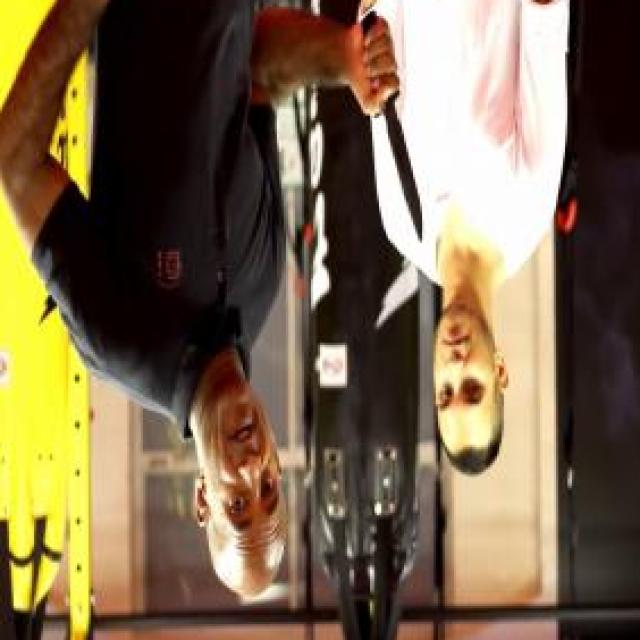knife: (355, 2, 427, 254)
